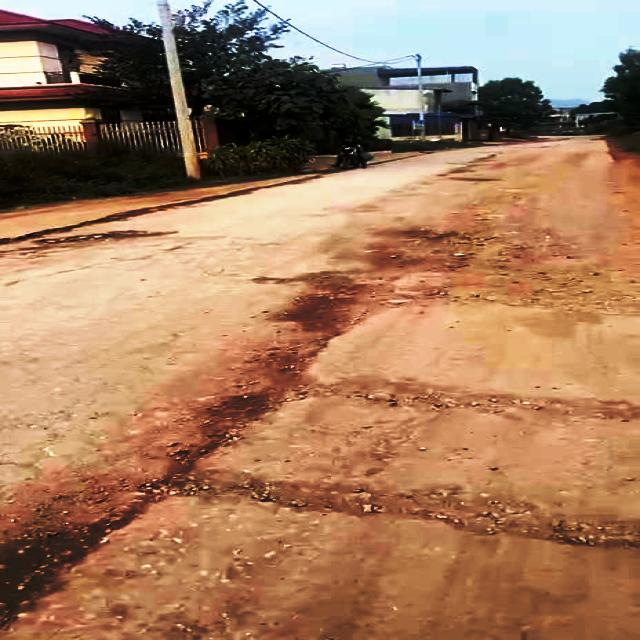pothole: (138, 448, 640, 555), (248, 359, 640, 435), (262, 263, 414, 332), (400, 223, 491, 267), (41, 228, 163, 249)
